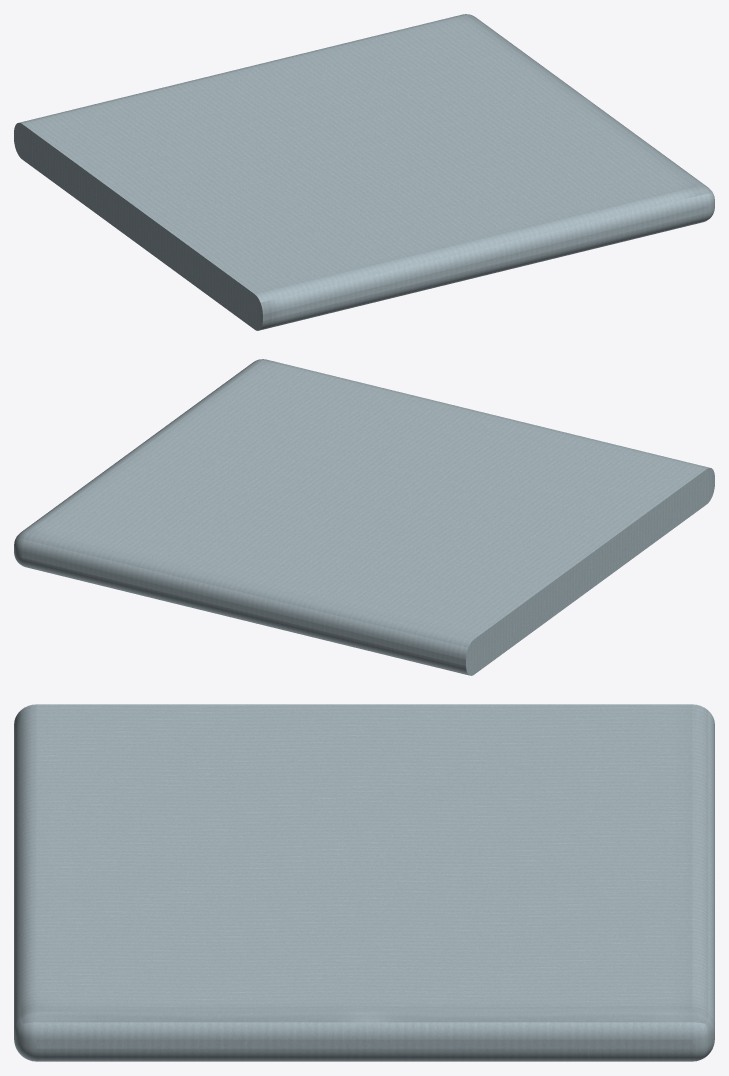
File: 16-deep-lunch-tin-lid-2.fbx
3 renders of one model, top to bottom at view 1: azimuth 30°, elevation 25°; view 2: azimuth 150°, elevation 25°; view 3: azimuth 270°, elevation 25°, orthographic. The views are drawn at different scales.
Parts seen in each view (by area): view 1: deep-lunch-tin-lid-2; view 2: deep-lunch-tin-lid-2; view 3: deep-lunch-tin-lid-2.
Part boxes in pixels (box(x1,y1,x2,y2)): deep-lunch-tin-lid-2: box(14, 14, 714, 330); deep-lunch-tin-lid-2: box(14, 359, 714, 675); deep-lunch-tin-lid-2: box(14, 704, 714, 1061).
Size of the model in its own units: 8500 by 630 by 8000.
1 material, 1 textured.
